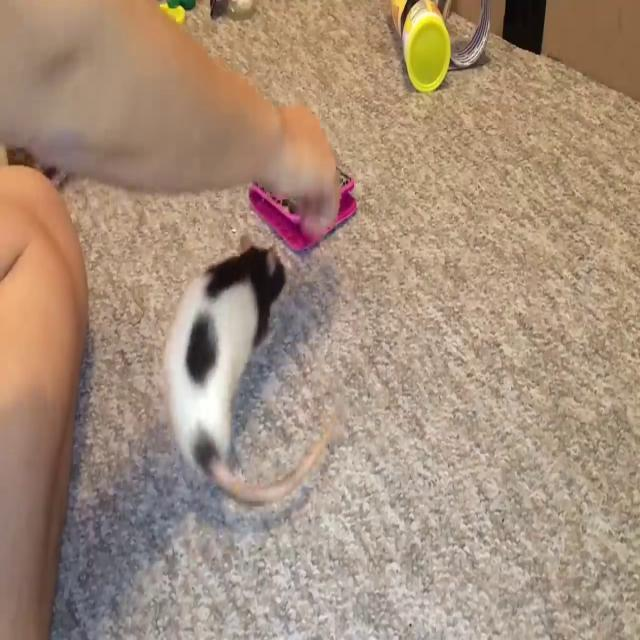rat: (164, 235, 288, 480)
